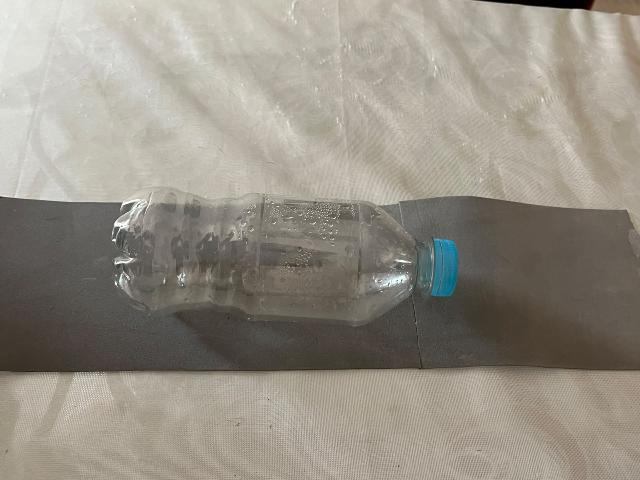PET: (92, 157, 484, 356)
